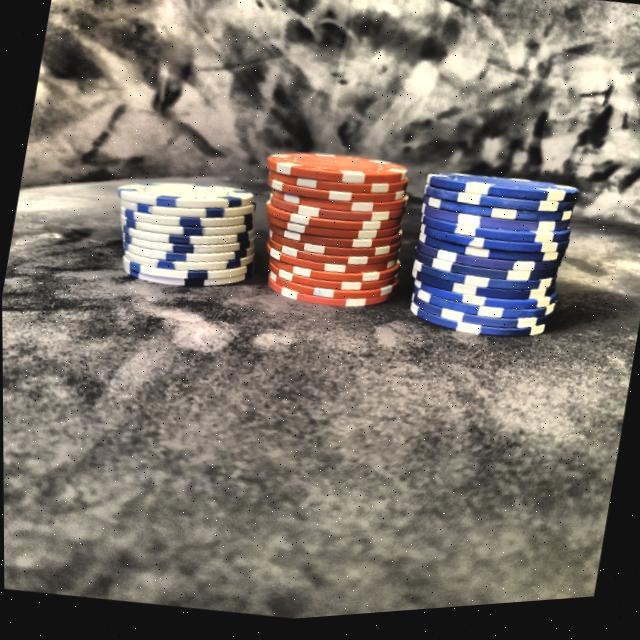Chip: (391, 149, 583, 373), (242, 116, 423, 337), (97, 146, 269, 320)
